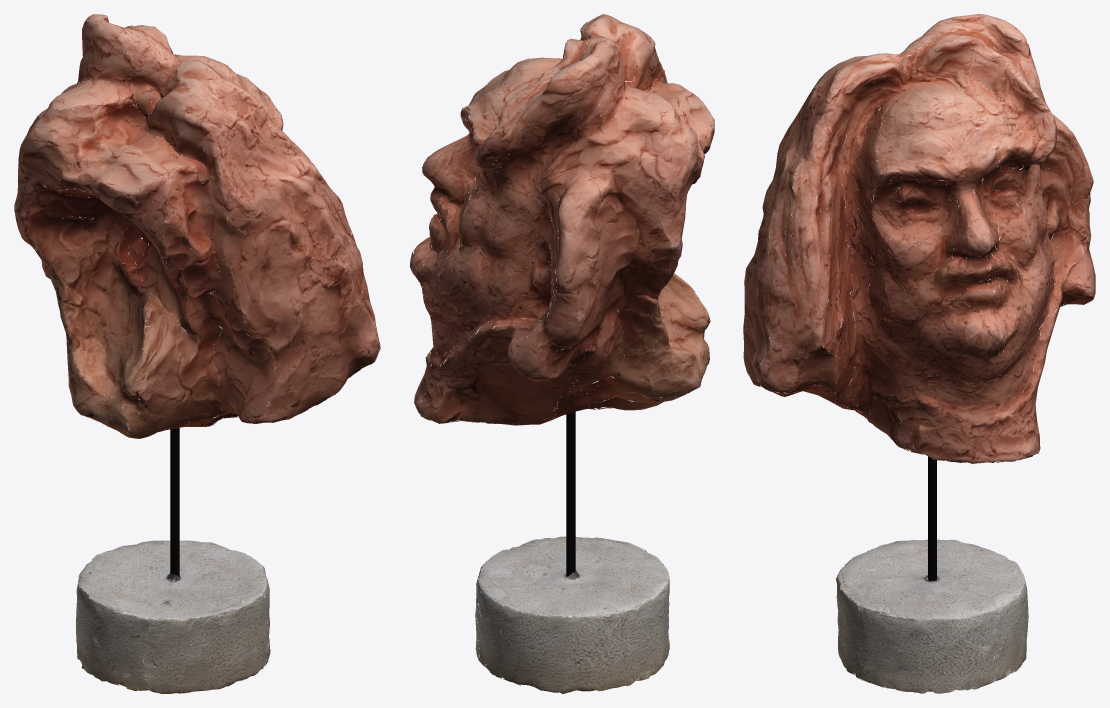
Rendered from balzac.glb.
3 renders of one model, left to right at view 1: azimuth 30°, elevation 25°; view 2: azimuth 150°, elevation 25°; view 3: azimuth 270°, elevation 25°, orthographic. The views are drawn at different scales.
Parts seen in each view (by area): view 1: Mesh_0_Part_0, Cylinder; view 2: Mesh_0_Part_0, Cylinder; view 3: Mesh_0_Part_0, Cylinder.
Part boxes in pixels (x1,y1,x2,y2): Mesh_0_Part_0: [14, 14, 380, 693]; Cylinder: [170, 428, 179, 579]; Mesh_0_Part_0: [409, 14, 714, 693]; Cylinder: [566, 411, 575, 576]; Mesh_0_Part_0: [743, 14, 1095, 693]; Cylinder: [928, 456, 936, 581].
Bounding box in the file's own units: 4.51 × 10.14 × 5.24.
2 materials, 1 textured.
